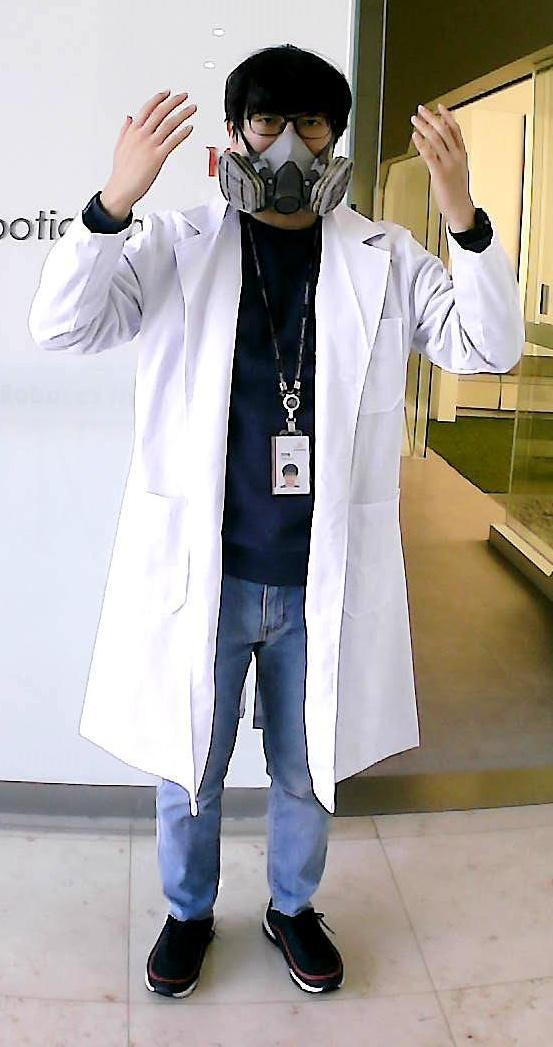lab_coat: (87, 252, 432, 779)
